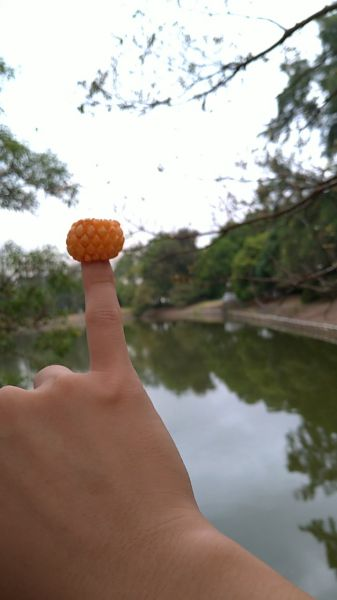eggs: (64, 216, 126, 263)
